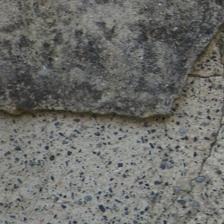Crack: (32, 155, 151, 224), (159, 16, 193, 114)
